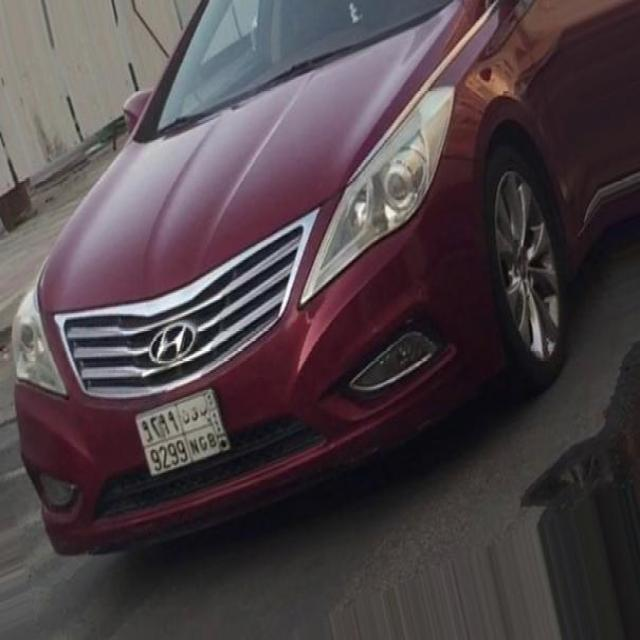Car-plate: (125, 373, 249, 491)
